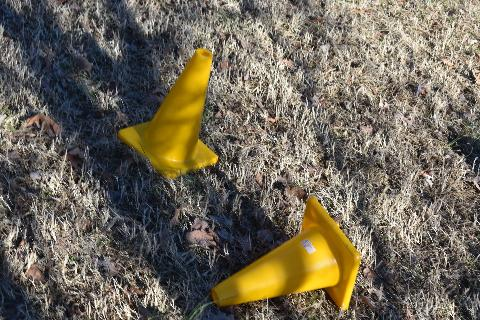cone: (212, 198, 360, 312), (118, 48, 218, 180)
